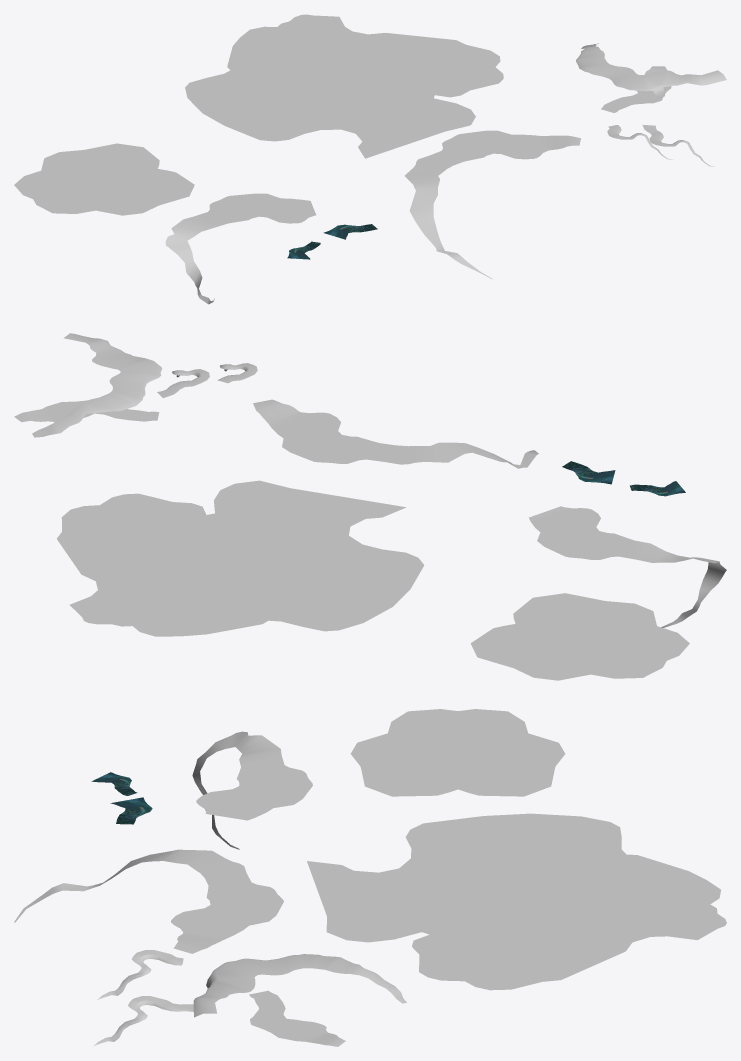
The model's file is f_2301_floor01_t4m.FBX.
The picture shows the model from 3 angles, top to bottom: view 1: azimuth 30°, elevation 25°; view 2: azimuth 150°, elevation 25°; view 3: azimuth 270°, elevation 25°; orthographic projection. The views are drawn at different scales.
Parts seen in each view (by area): view 1: f_2301_floo002, f_2301_floo001, f_2301_floor08, f_2301_floor04, f_2301_floor07, f_2301_floor10; view 2: f_2301_floo002, f_2301_floo001, f_2301_floor08, f_2301_floor04, f_2301_floor07, f_2301_floor10, f_2301_floor05, f_2301_floor09; view 3: f_2301_floo002, f_2301_floo001, f_2301_floor08, f_2301_floor04, f_2301_floor07, f_2301_floor10, f_2301_floor09, f_2301_floor014, f_2301_floor05.
Part boxes in pixels (box(x1,y1,x2,y2)): f_2301_floo002: box(185, 14, 503, 158); f_2301_floo001: box(14, 143, 194, 215); f_2301_floor08: box(404, 130, 580, 279); f_2301_floor04: box(165, 193, 315, 304); f_2301_floor07: box(576, 43, 726, 99); f_2301_floor10: box(601, 66, 671, 112); f_2301_floo002: box(57, 480, 424, 636); f_2301_floo001: box(470, 593, 689, 680); f_2301_floor08: box(253, 399, 538, 468); f_2301_floor04: box(529, 506, 726, 627); f_2301_floor07: box(32, 333, 162, 437); f_2301_floor10: box(14, 400, 159, 422); f_2301_floor05: box(562, 461, 615, 484); f_2301_floor09: box(157, 369, 209, 398); f_2301_floo002: box(307, 813, 726, 990); f_2301_floo001: box(350, 709, 565, 796); f_2301_floor08: box(14, 849, 283, 953); f_2301_floor04: box(192, 731, 312, 849); f_2301_floor07: box(193, 954, 406, 1017); f_2301_floor10: box(249, 990, 345, 1046); f_2301_floor09: box(94, 996, 193, 1045); f_2301_floor014: box(97, 950, 183, 999); f_2301_floor05: box(110, 797, 152, 824).
Size of the model in its own units: 26777 by 4914 by 21616.
